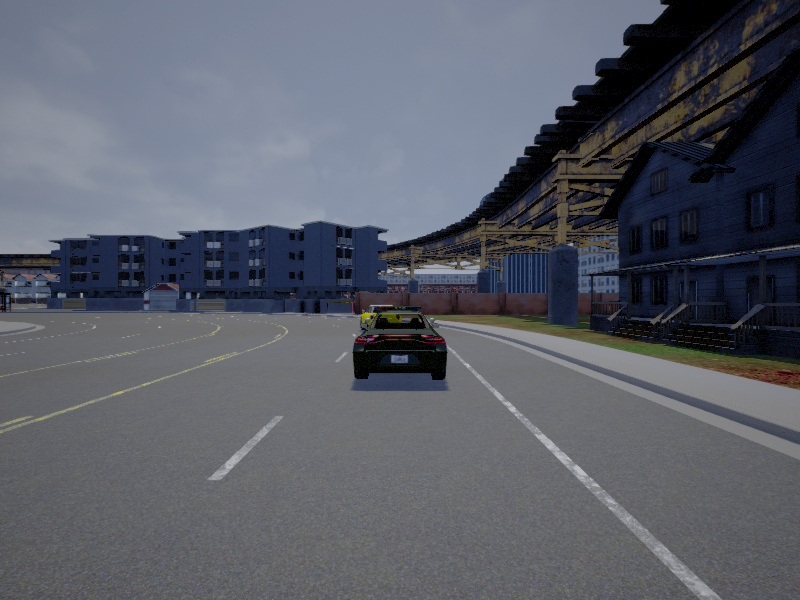Benign: (351, 307, 447, 380), (360, 304, 401, 328)
